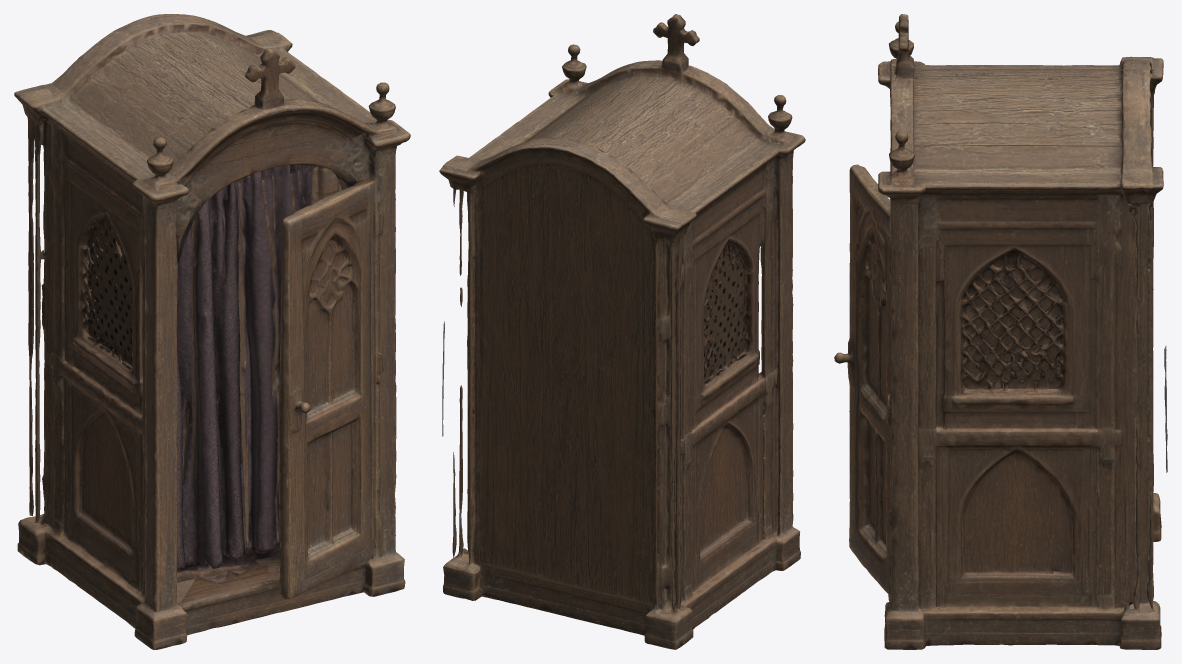
Rendered from Confessional.fbx.
3 views of the same model, side by side, from view 1: azimuth 30°, elevation 25°; view 2: azimuth 150°, elevation 25°; view 3: azimuth 270°, elevation 25° (orthographic). The views are drawn at different scales.
Parts seen in each view (by area): view 1: texture_mapping; view 2: texture_mapping; view 3: texture_mapping.
Part boxes in pixels (x1,y1,x2,y2): texture_mapping: (14, 14, 410, 649); texture_mapping: (439, 14, 805, 649); texture_mapping: (834, 14, 1167, 649).
Bounding box in the file's own units: 0.4866 × 0.5291 × 1.
Materials: 1 (1 with a texture image).
